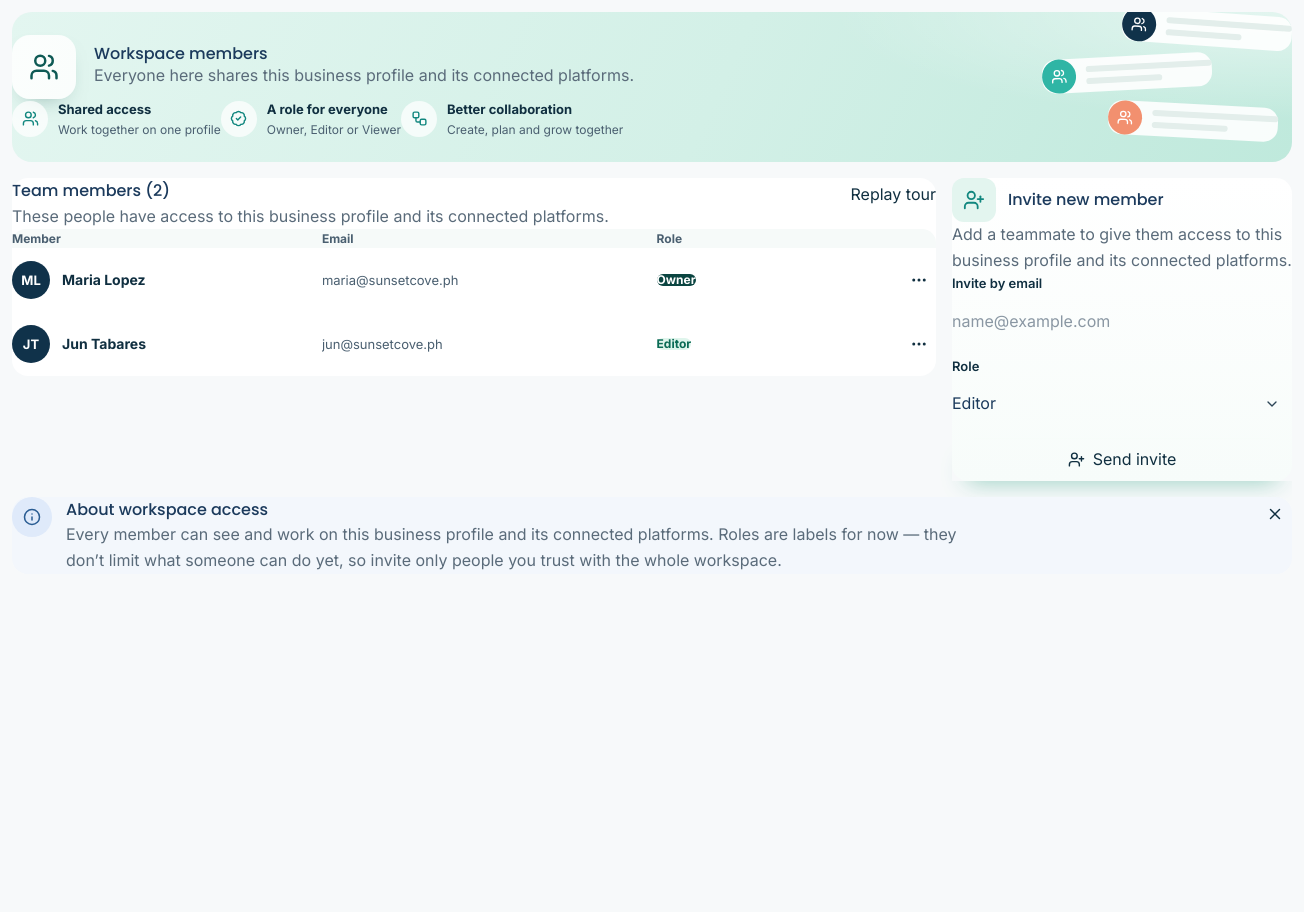
WorkspaceSettings › submitting the invite form appends a pending row with a derived display name once the invite is accepted
Check: the text "Maria Lopez" is shown, box [62,269,146,292]
In the field labelled "Invite by email": (1122,321) [952,300,1292,342], type "hana.kim@sunsetcove.ph"
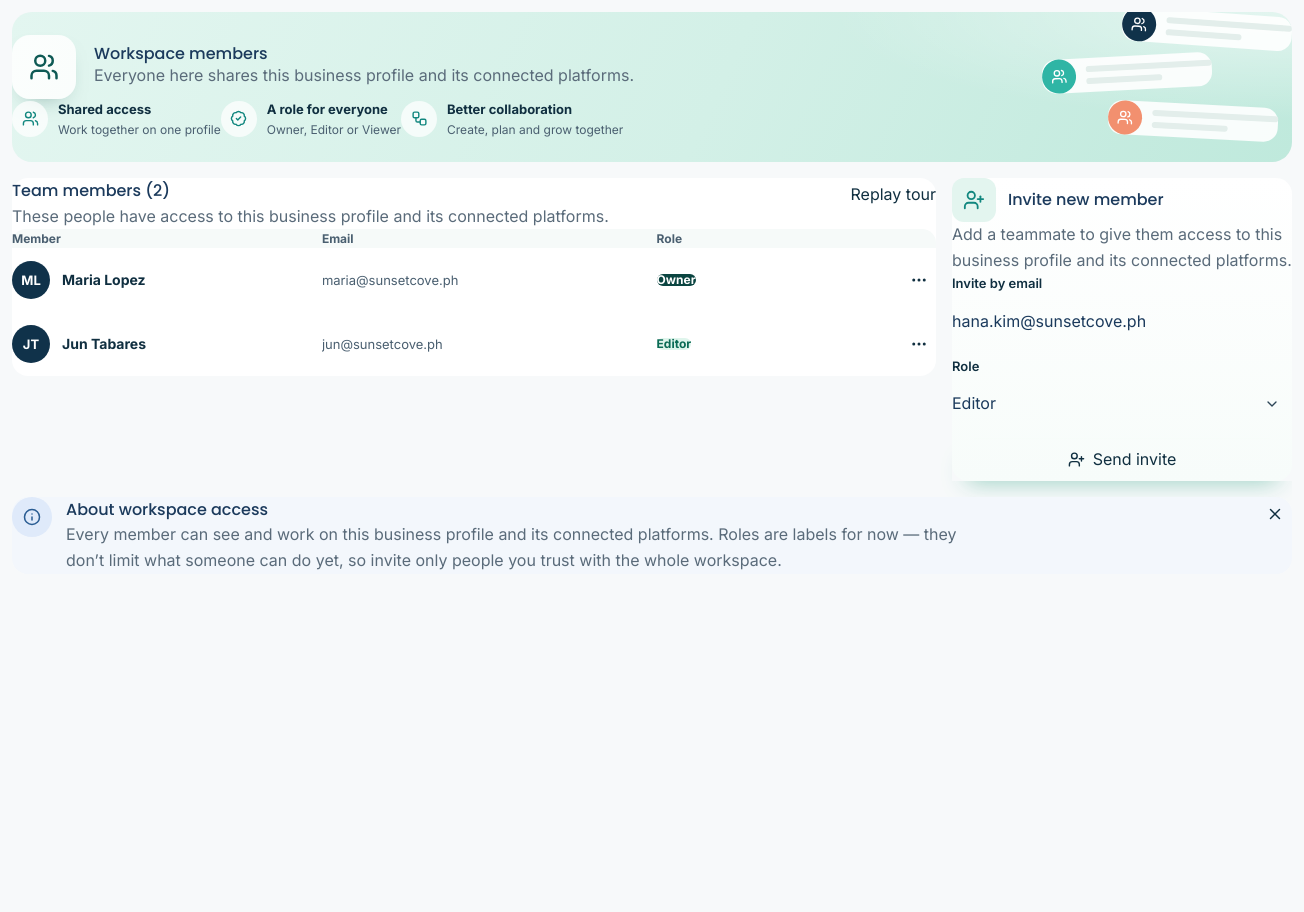
Select "Viewer" in the dropdown labelled "Role": (1122,404) [952,383,1292,425]
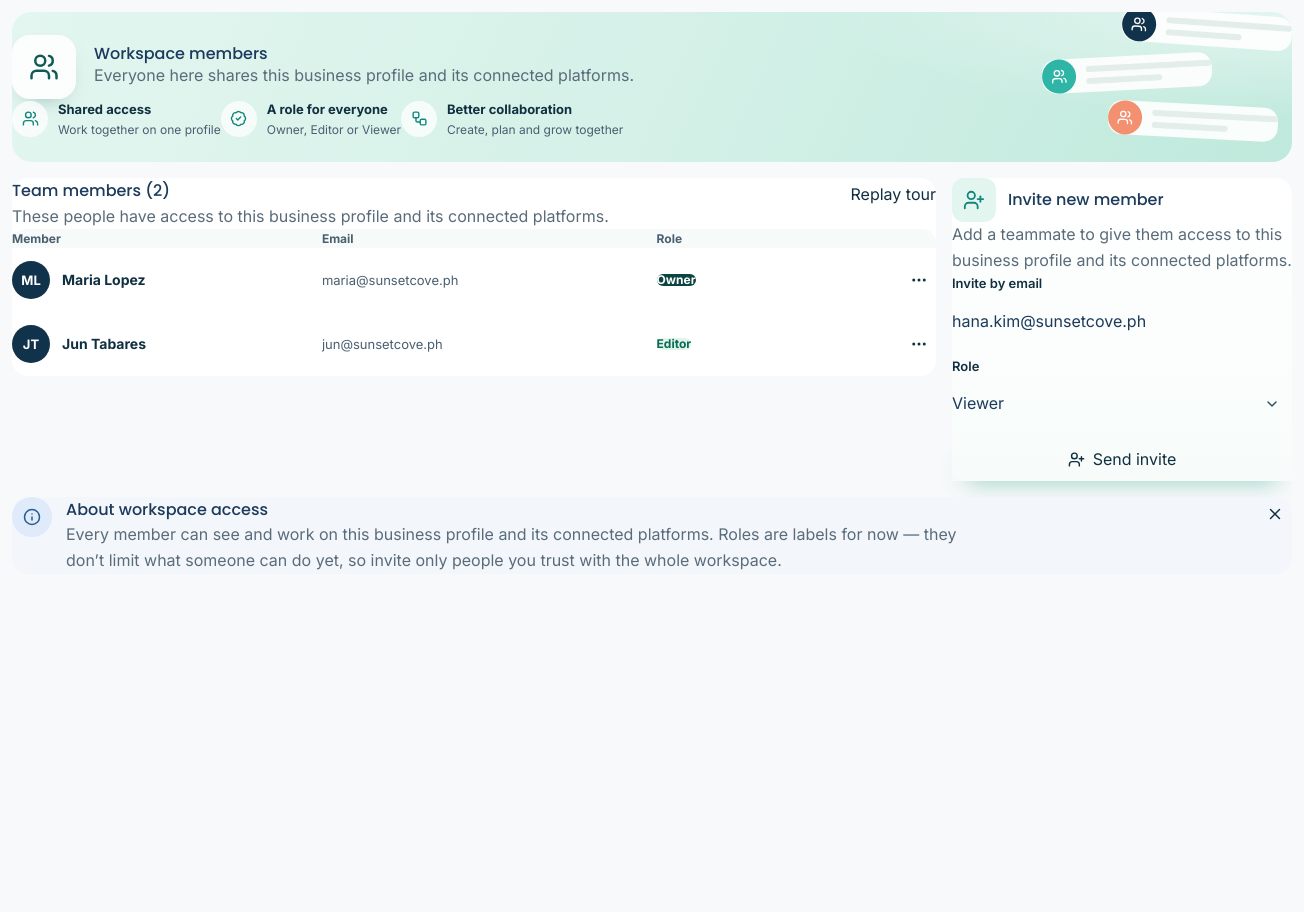
Click the button "Send invite": (1122,460) [952,439,1292,481]
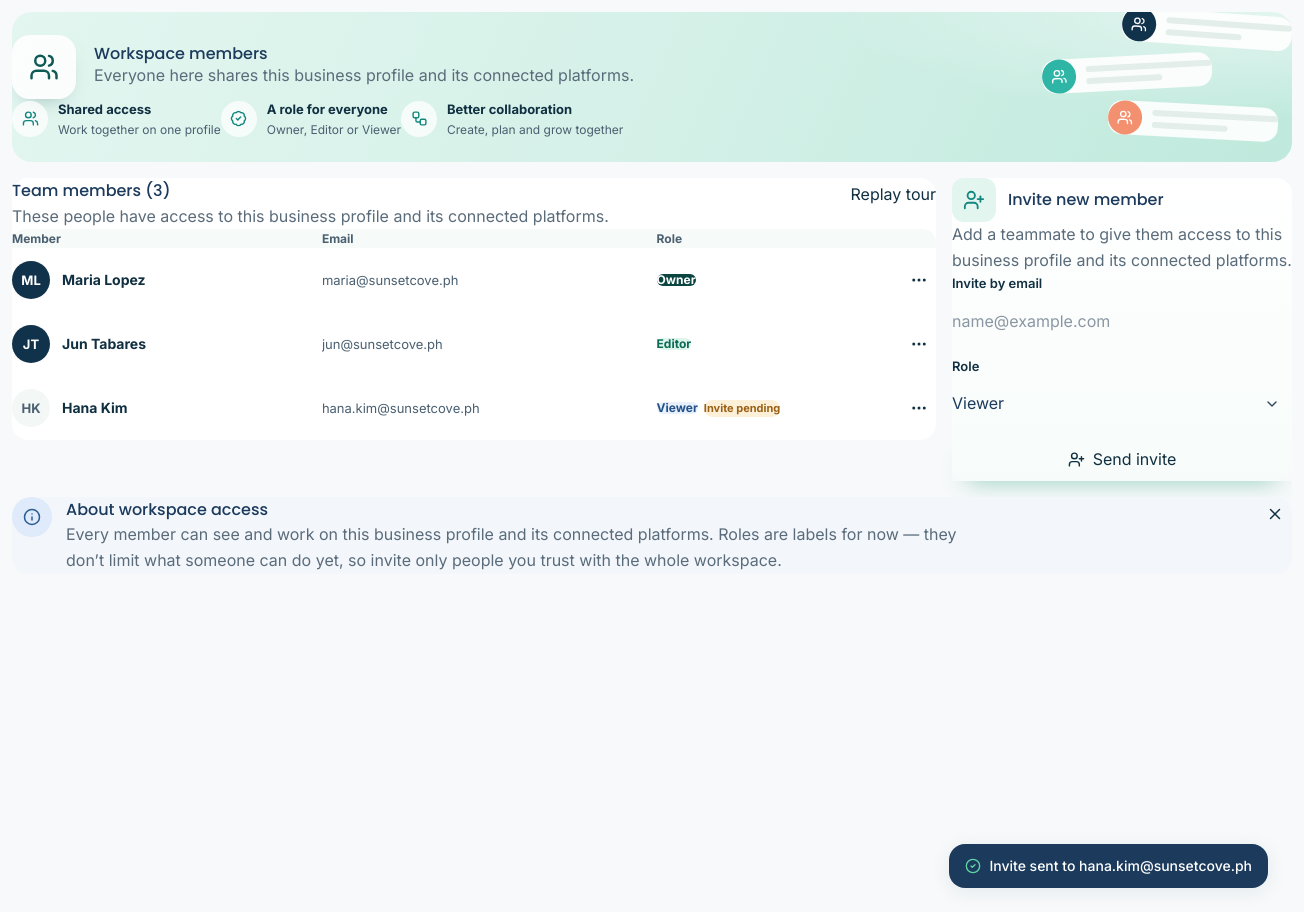
Check: the text "Hana Kim" is shown, box [62,397,128,420]
Check: the text "hana.kim@sunsetcove.ph" is shown, box [322,400,480,416]
Check: the text "Invite pending" is shown, box [704,400,780,417]
